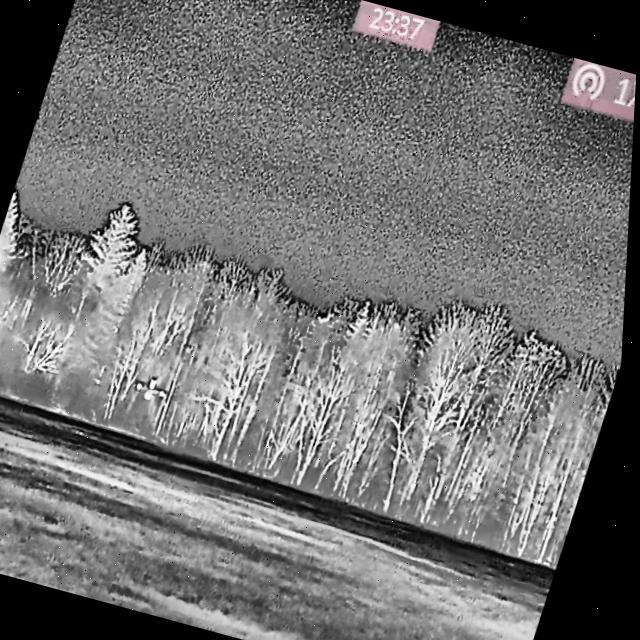drone: (136, 372, 177, 406)
